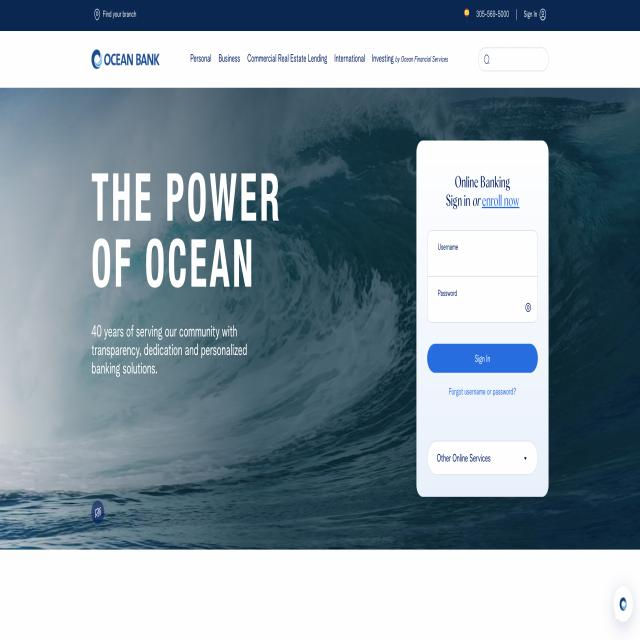Logo: (86, 34, 169, 81)
Navigation: (180, 39, 580, 74)
